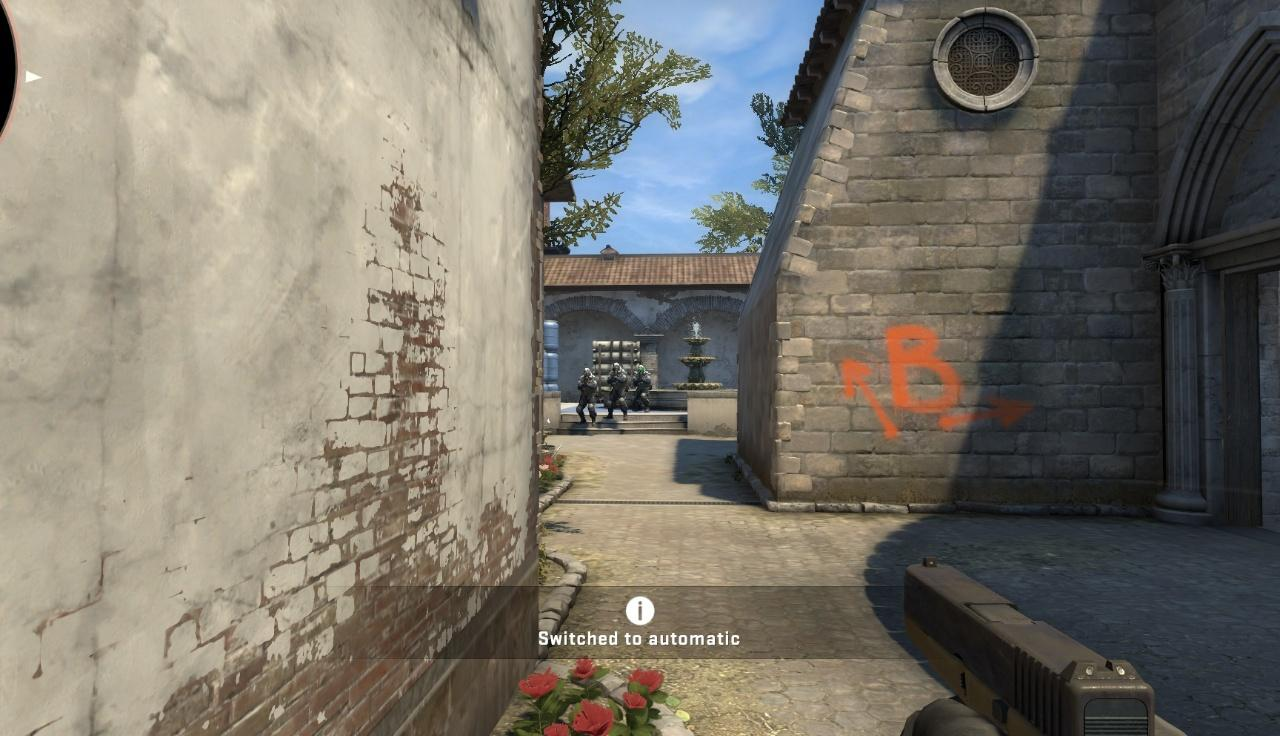ct: (608, 363, 628, 420), (578, 368, 596, 422), (634, 365, 650, 413)
cthead: (613, 363, 620, 373), (584, 368, 590, 378), (638, 365, 644, 374)
pistol: (901, 558, 1170, 736)
